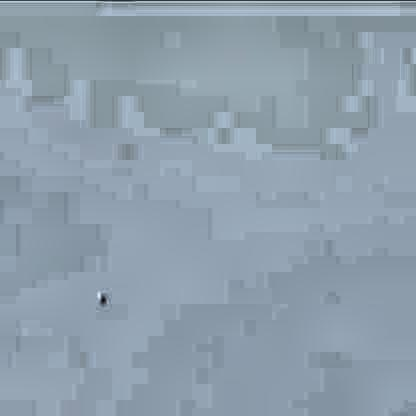golfball: (92, 288, 105, 301)
